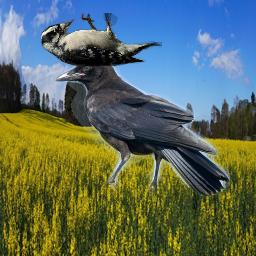Crow: (55, 57, 230, 196)
Woodpecker: (41, 13, 162, 67)
